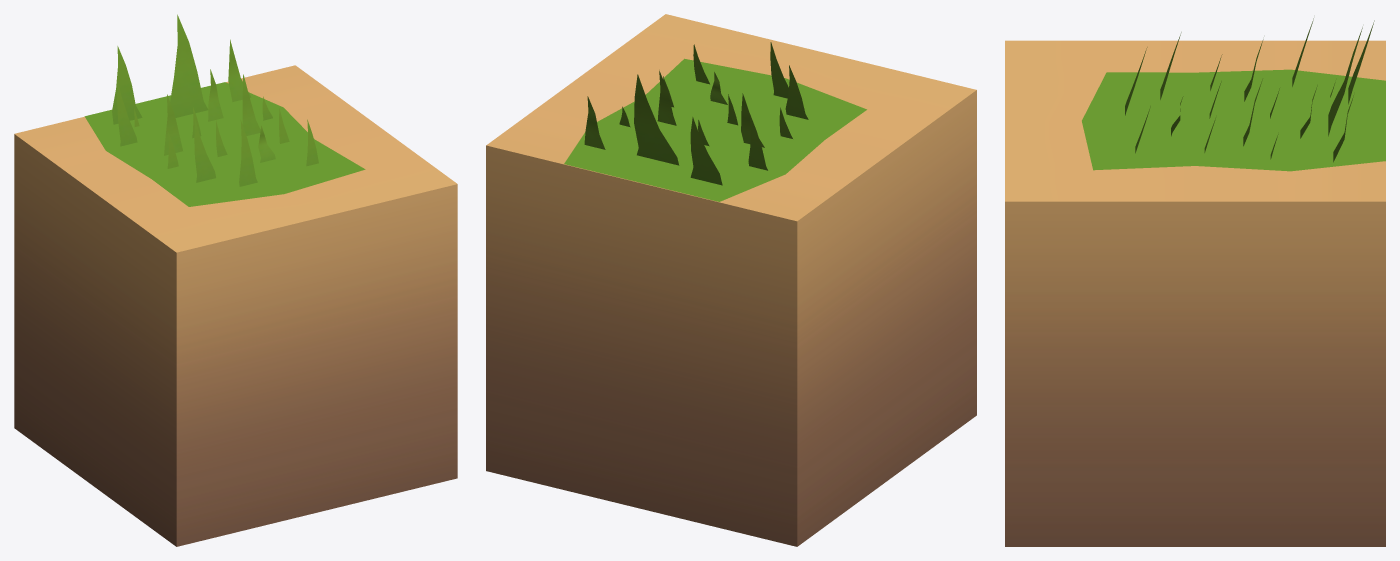
The model's file is threesidec l tile.fbx.
3 views of the same model, side by side, from view 1: azimuth 30°, elevation 25°; view 2: azimuth 150°, elevation 25°; view 3: azimuth 270°, elevation 25° (orthographic). The views are drawn at different scales.
Visible parts, largest first — view 1: thsidec_l_ground, thsidec_l, thsidec_l_grass; view 2: thsidec_l_ground, thsidec_l, thsidec_l_grass; view 3: thsidec_l_ground, thsidec_l, thsidec_l_grass.
Boxes of the visible parts, x1,y1,x2,y2 form: thsidec_l_ground: [14, 65, 457, 546]; thsidec_l: [84, 82, 365, 206]; thsidec_l_grass: [112, 14, 318, 186]; thsidec_l_ground: [486, 14, 976, 546]; thsidec_l: [564, 58, 866, 201]; thsidec_l_grass: [584, 42, 808, 185]; thsidec_l_ground: [1005, 40, 1385, 546]; thsidec_l: [1082, 69, 1385, 171]; thsidec_l_grass: [1125, 18, 1374, 162].
Size of the model in its own units: 10 by 13.03 by 10.
